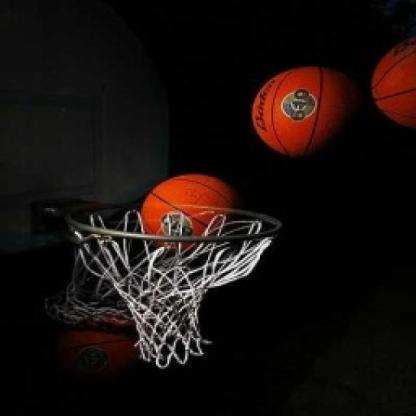basketball: (250, 59, 354, 162), (132, 166, 243, 262), (368, 31, 416, 136)
